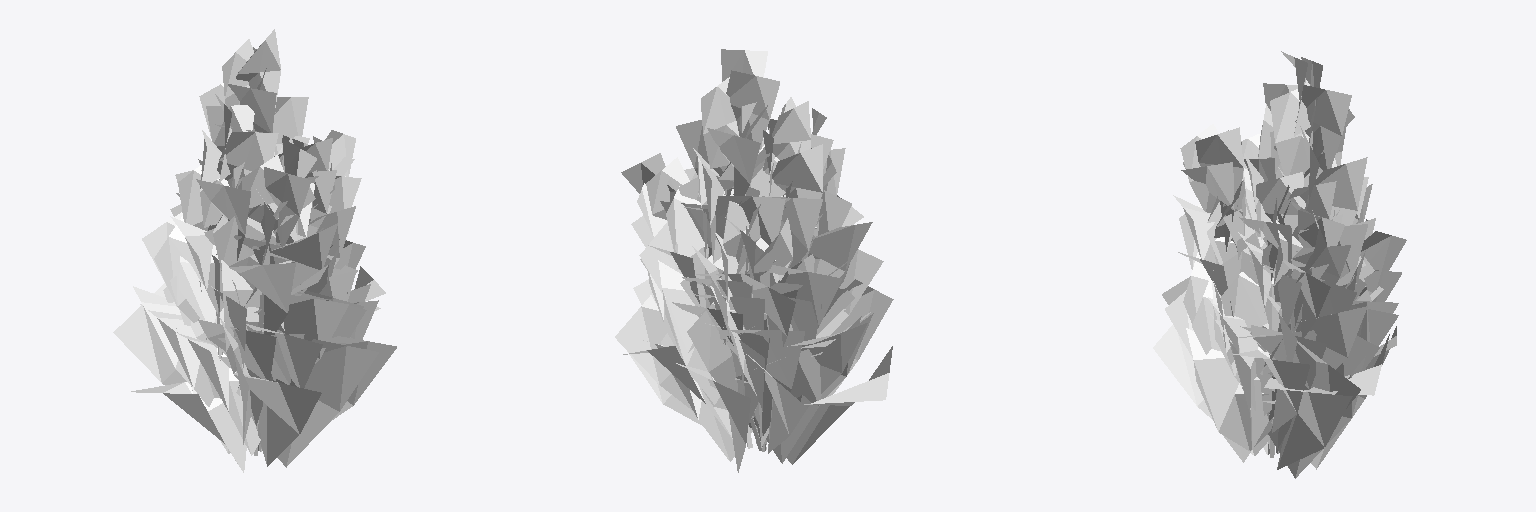
The model's file is Flannelbush_Model_0.obj.
3 renders of one model, left to right at view 1: azimuth 30°, elevation 25°; view 2: azimuth 150°, elevation 25°; view 3: azimuth 270°, elevation 25°, orthographic.
Parts seen in each view (by area): view 1: Foliage; view 2: Foliage; view 3: Foliage.
Boxes of the visible parts, x1,y1,x2,y2 form: Foliage: [113, 29, 396, 472]; Foliage: [615, 49, 893, 472]; Foliage: [1153, 51, 1406, 478].
Size of the model in its own units: 1.86 by 3 by 1.66.